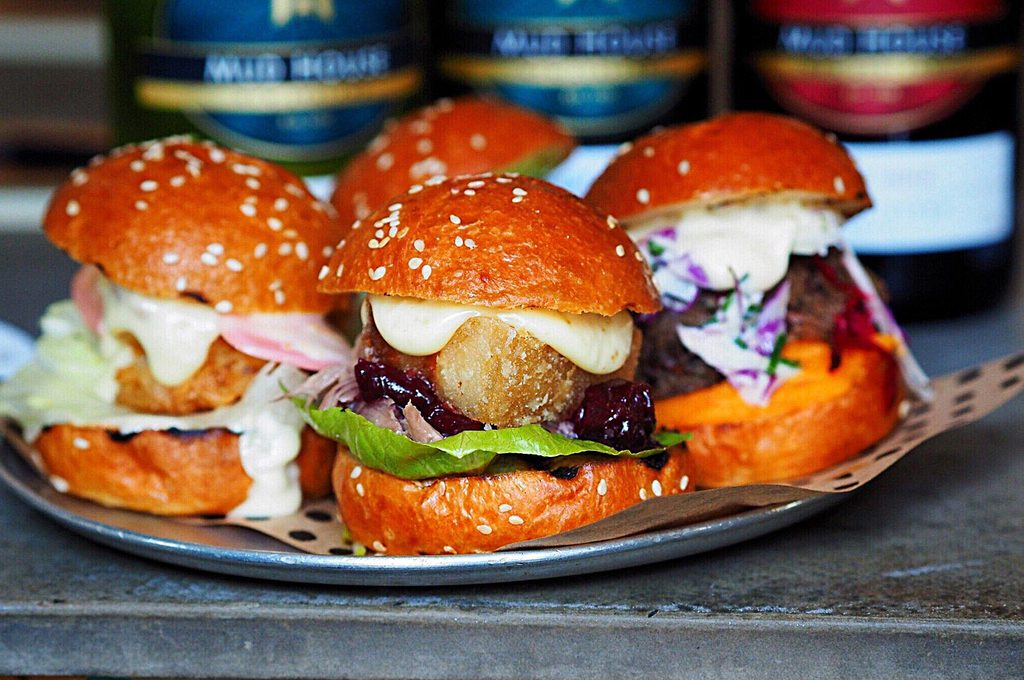Hamburger: (274, 168, 690, 555), (0, 137, 353, 519), (583, 114, 908, 493), (323, 99, 569, 233)
